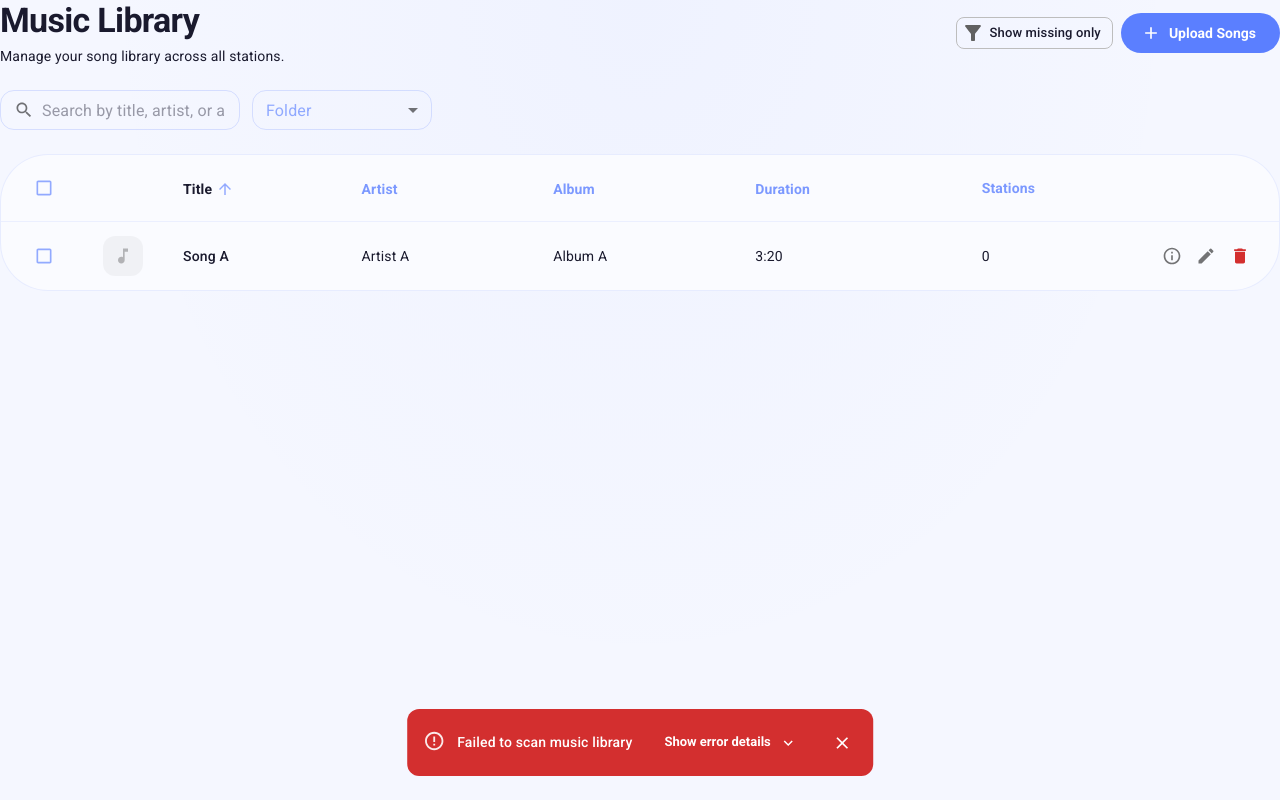
Scenario: Songs Page › opens the song details dialog with file metadata
The width and height of the screenshot is (1280, 800).
Expected: the text "Song A" is shown, x1=183 y1=246 x2=229 y2=266
Click the button named "Details".
click(1172, 256)  # box x1=1157 y1=241 x2=1187 y2=271
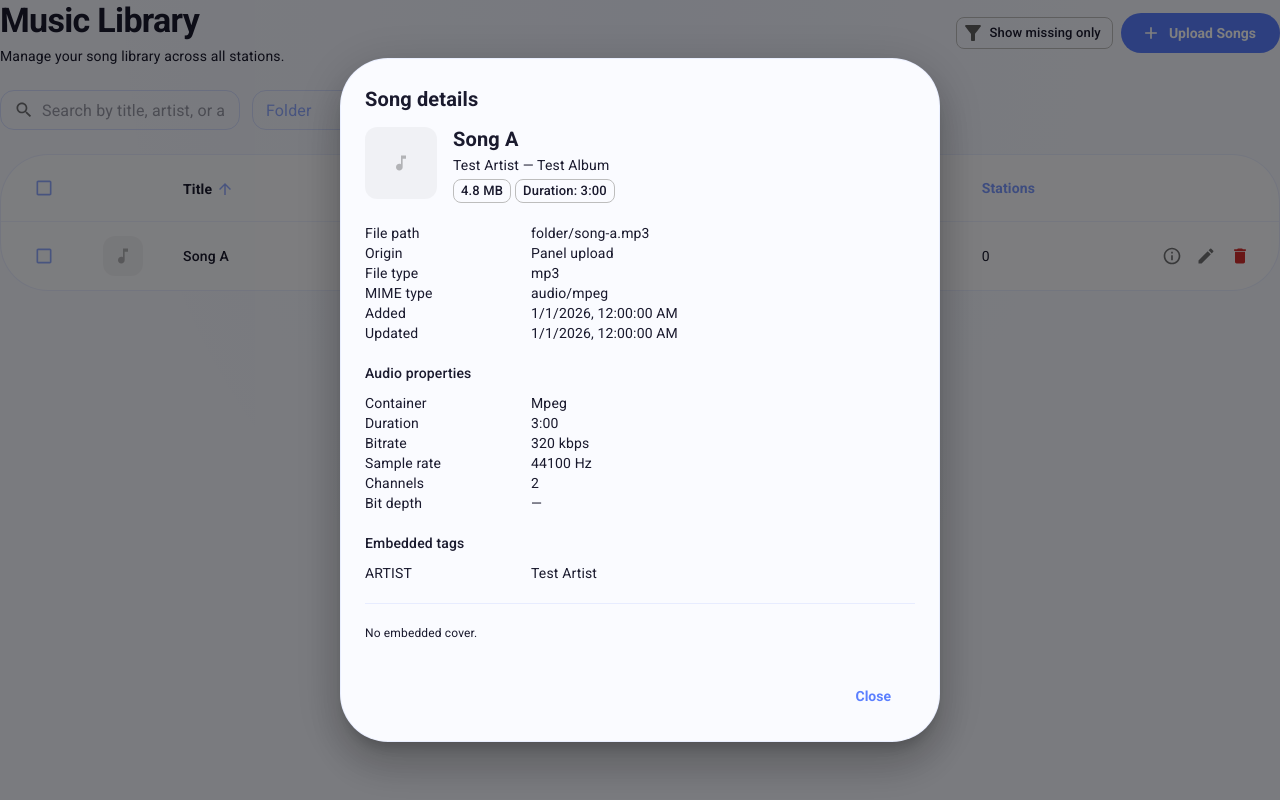
Expected: the text "folder/song-a.mp3" is shown, x1=531 y1=223 x2=650 y2=243
